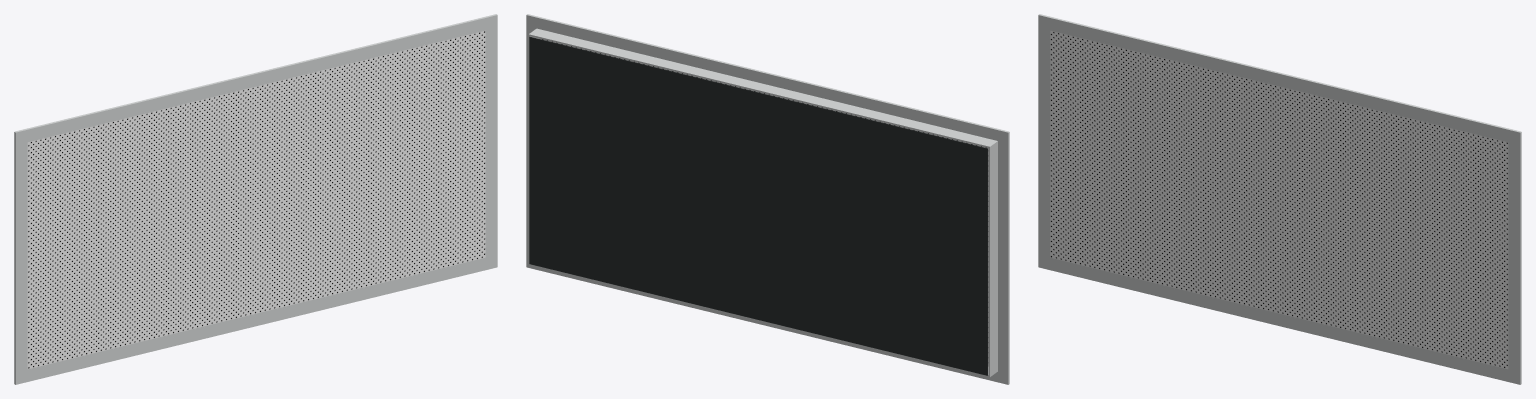
File: ecoclima-egfr-600x300.glb
3 renders of one model, left to right at view 1: azimuth 30°, elevation 25°; view 2: azimuth 150°, elevation 25°; view 3: azimuth 330°, elevation 25°, orthographic.
Parts seen in each view (by area): view 1: Profile_lamiera_forata, Profile_cornice.109, Profile_cornice.110, Profile_cornice.111, Profile_cornice.112; view 2: Interno.031, Profile_cornice.109, Profile_ritorno.116, Profile_cornice.111, Profile_ritorno.118, Profile_cornice.110, Profile_lamiera_forata, Profile_cornice.112, Profile_ritorno.117, Profile_ritorno.119; view 3: Profile_lamiera_forata, Profile_cornice.109, Profile_cornice.110, Profile_cornice.112, Profile_cornice.111.
Part boxes in pixels (x1=…): Profile_lamiera_forata: x1=27, y1=30, x2=485, y2=369; Profile_cornice.109: x1=14, y1=14, x2=497, y2=145; Profile_cornice.110: x1=14, y1=255, x2=497, y2=384; Profile_cornice.111: x1=14, y1=142, x2=27, y2=372; Profile_cornice.112: x1=485, y1=27, x2=497, y2=257; Interno.031: x1=529, y1=37, x2=987, y2=375; Profile_cornice.109: x1=526, y1=14, x2=1009, y2=145; Profile_ritorno.116: x1=528, y1=28, x2=997, y2=148; Profile_cornice.111: x1=998, y1=143, x2=1009, y2=372; Profile_ritorno.118: x1=988, y1=143, x2=997, y2=375; Profile_cornice.110: x1=526, y1=255, x2=1009, y2=384; Profile_lamiera_forata: x1=539, y1=38, x2=988, y2=366; Profile_cornice.112: x1=526, y1=27, x2=538, y2=255; Profile_ritorno.117: x1=528, y1=263, x2=997, y2=376; Profile_ritorno.119: x1=528, y1=36, x2=537, y2=262; Profile_lamiera_forata: x1=1050, y1=30, x2=1508, y2=369; Profile_cornice.109: x1=1038, y1=14, x2=1521, y2=145; Profile_cornice.110: x1=1038, y1=255, x2=1521, y2=384; Profile_cornice.112: x1=1508, y1=142, x2=1521, y2=372; Profile_cornice.111: x1=1038, y1=27, x2=1050, y2=257.
Size of the model in its own units: 0.6 by 0.3 by 0.022.
3 materials, 1 textured.
